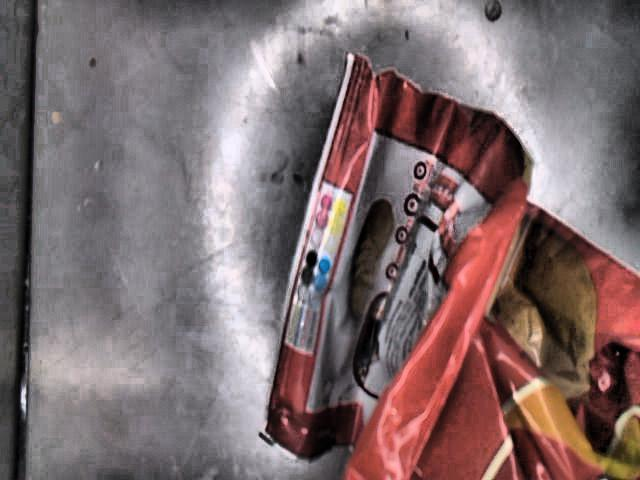Plastic: (261, 54, 640, 480)
